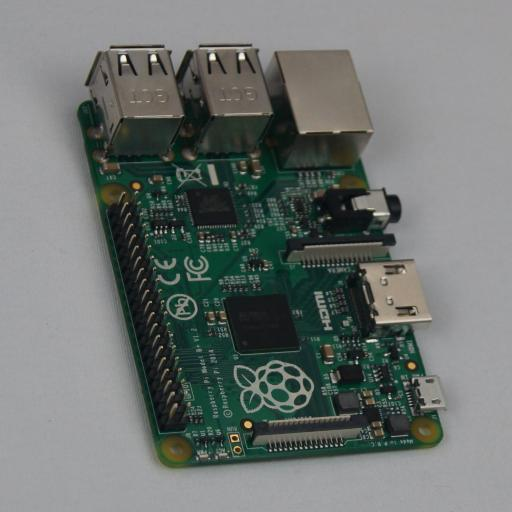Raspberry Pi 1 B-: (77, 44, 443, 468)
